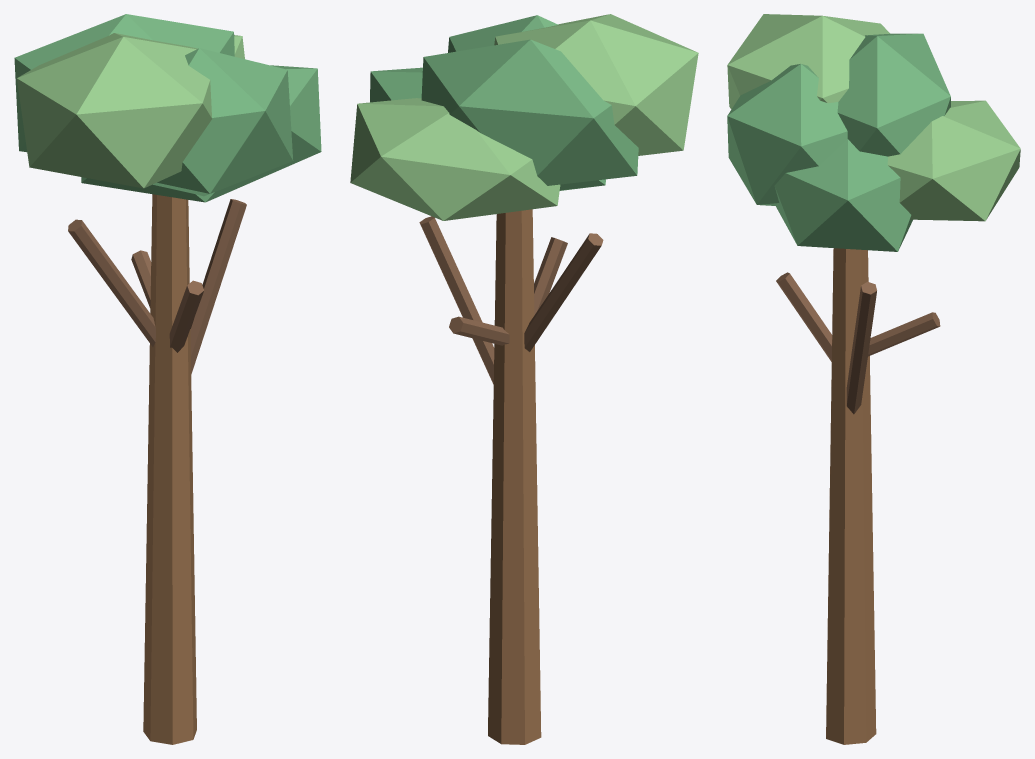
The model's file is broadleaf_04.glb.
3 views of the same model, side by side, from view 1: azimuth 30°, elevation 25°; view 2: azimuth 150°, elevation 25°; view 3: azimuth 270°, elevation 25° (orthographic). The views are drawn at different scales.
Visible parts, largest first — view 1: broadleaf_04; view 2: broadleaf_04; view 3: broadleaf_04.
Part boxes in pixels (x1,y1,x2,y2): broadleaf_04: (14,14,321,744); broadleaf_04: (350,14,698,744); broadleaf_04: (727,14,1020,744).
Bounding box in the file's own units: 2.41 × 5.51 × 2.13.
